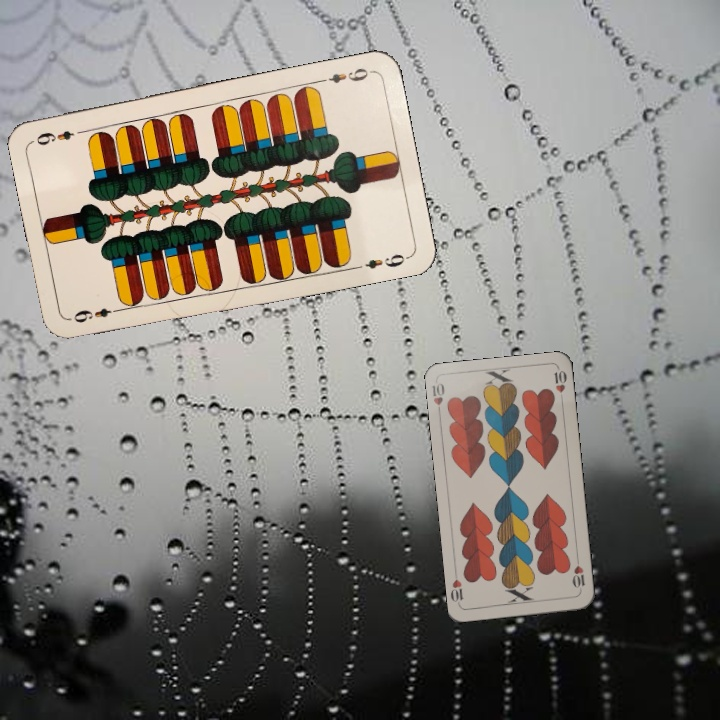E9: (316, 64, 375, 86), (69, 304, 126, 326)
H10: (428, 379, 447, 419), (569, 554, 587, 594)
